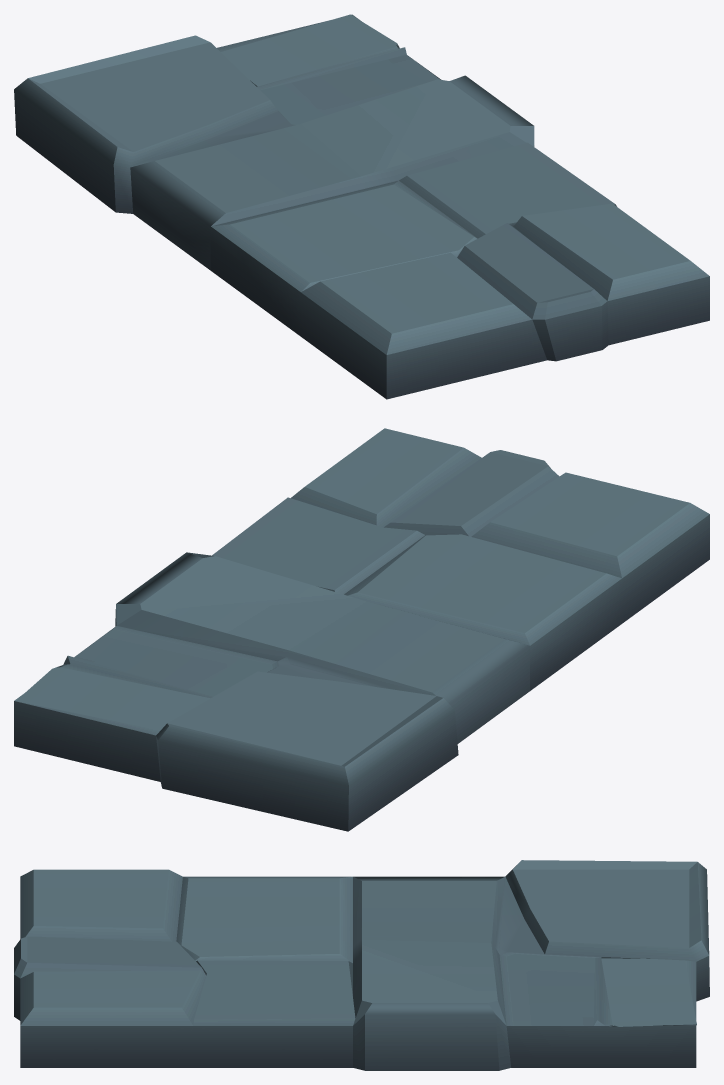
The model's file is Modular_Dungeon_Tile_Irregular_Double.fbx.
The picture shows the model from 3 angles, top to bottom: view 1: azimuth 30°, elevation 25°; view 2: azimuth 150°, elevation 25°; view 3: azimuth 270°, elevation 25°; orthographic projection. The views are drawn at different scales.
Parts seen in each view (by area): view 1: Tile_Irregular_Double; view 2: Tile_Irregular_Double; view 3: Tile_Irregular_Double.
Part boxes in pixels (bbox=[...]): Tile_Irregular_Double: bbox=[14, 14, 709, 399]; Tile_Irregular_Double: bbox=[14, 428, 709, 831]; Tile_Irregular_Double: bbox=[14, 860, 709, 1070].
Size of the model in its own units: 3.56 by 0.6141 by 6.62.
1 material, 1 textured.
